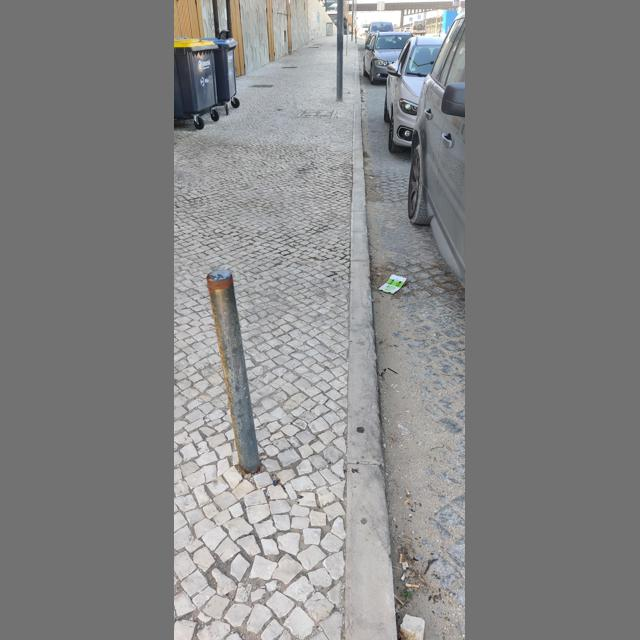litter: (378, 274, 408, 294), (399, 424, 412, 436), (406, 583, 420, 588), (401, 572, 406, 581), (404, 498, 410, 505), (402, 562, 407, 570), (404, 561, 409, 569), (400, 554, 403, 564), (406, 488, 410, 495), (391, 436, 396, 441), (396, 421, 402, 425), (408, 531, 416, 533), (361, 89, 366, 92), (386, 382, 388, 387), (379, 371, 381, 375)
